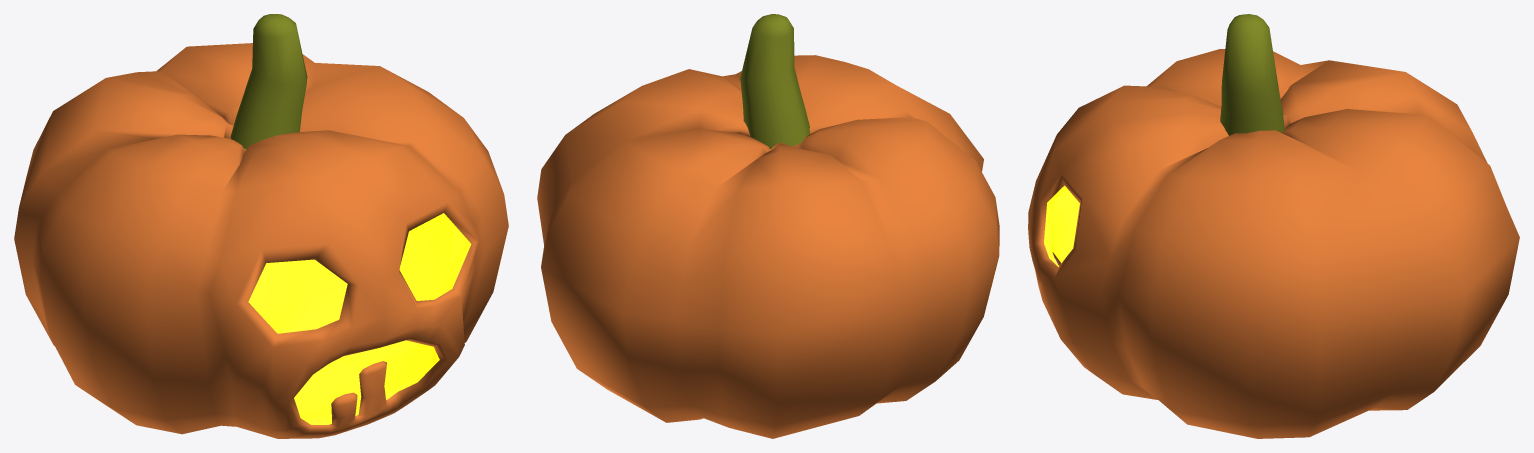
File: pumpkin_5.fbx
3 renders of one model, left to right at view 1: azimuth 30°, elevation 25°; view 2: azimuth 150°, elevation 25°; view 3: azimuth 270°, elevation 25°, orthographic. The views are drawn at different scales.
Parts seen in each view (by area): view 1: pumpkin_5; view 2: pumpkin_5; view 3: pumpkin_5.
Part boxes in pixels (x1,y1,x2,y2): pumpkin_5: [14, 14, 508, 438]; pumpkin_5: [537, 14, 999, 438]; pumpkin_5: [1028, 14, 1519, 438].
Size of the model in its own units: 144 by 119 by 144.
